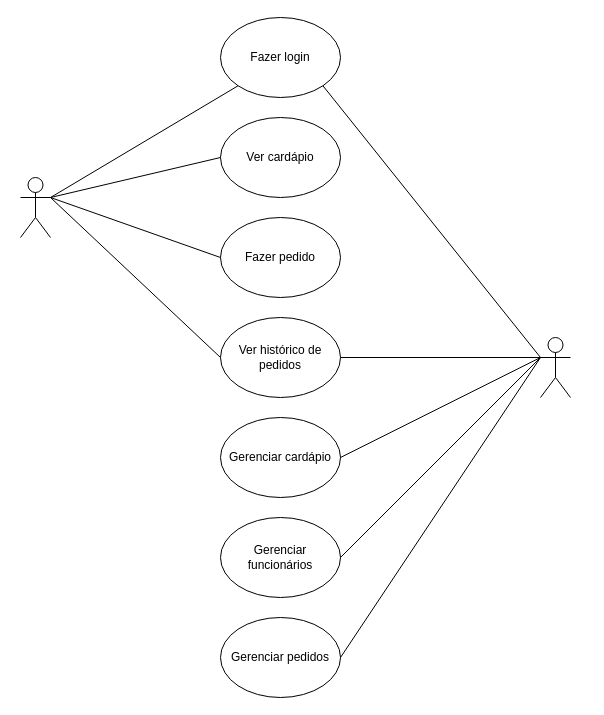
This 604x715 diagram has some shape labels left out. Here are the shapes that lost their labels. From the top down, the centre of each, then its label:
At point (35, 207): "Cliente".
At point (555, 367): "Funcionário".
